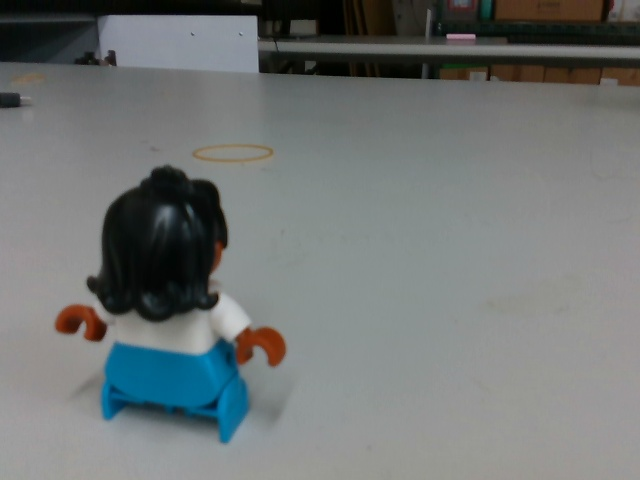people: (55, 164, 291, 453)
